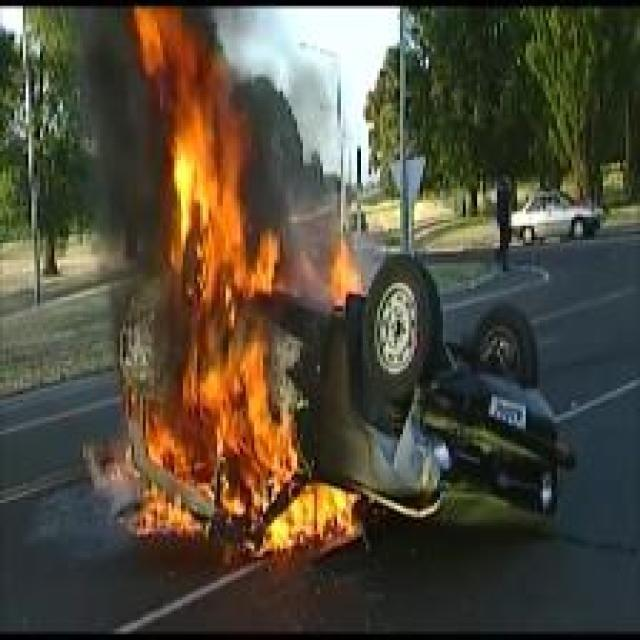Fire: (140, 295, 360, 555), (134, 3, 276, 292), (328, 234, 366, 304)
